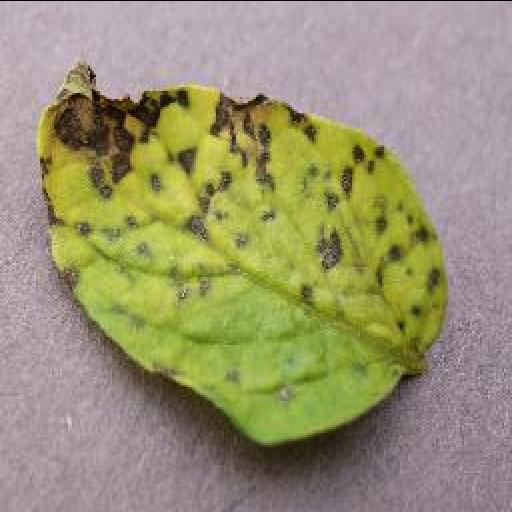disease_tomato: (38, 60, 450, 444)
